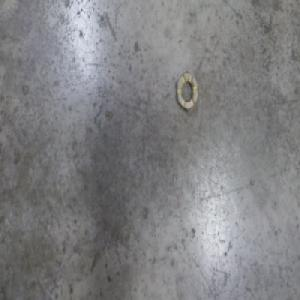Nut: (176, 68, 198, 112)
